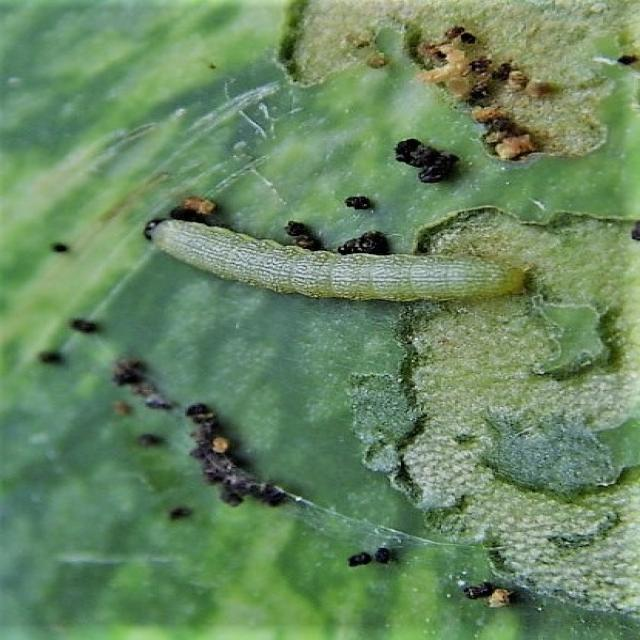armyworm: (142, 215, 527, 303)
